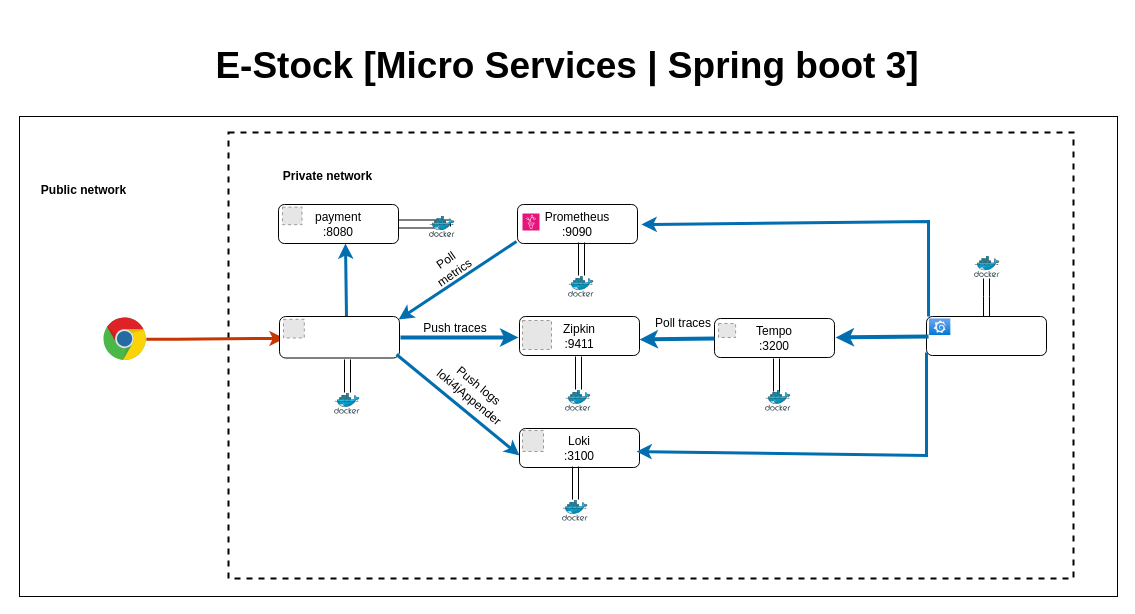
This 1135x614 diagram has some shape labels left out. Grey dashed boxes stand in for pictures. Here are the shapes that lost their labels. From the top down, the box of each, then its label:
(278, 316, 400, 358): stock :8081
(926, 316, 1046, 356): grafana :3000
